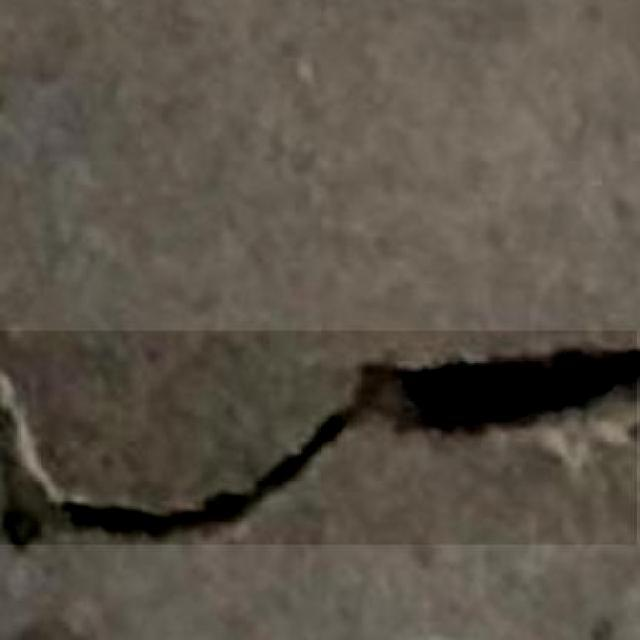SurfaceCrack: (22, 322, 640, 552)
